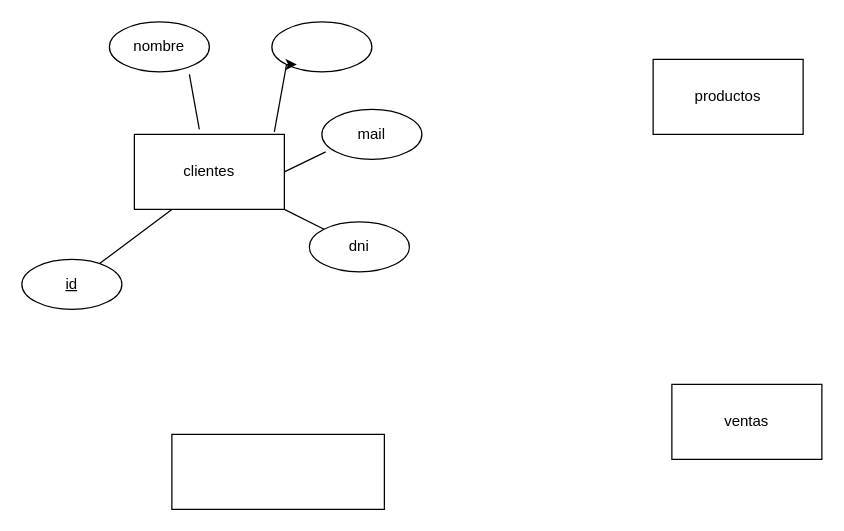
Image size: 844x531. Some labels were removed from this diagram. Each missing label, with the centre of its shape:
"apellido" belongs at point 321,46.
"empleados" belongs at point 277,471.
